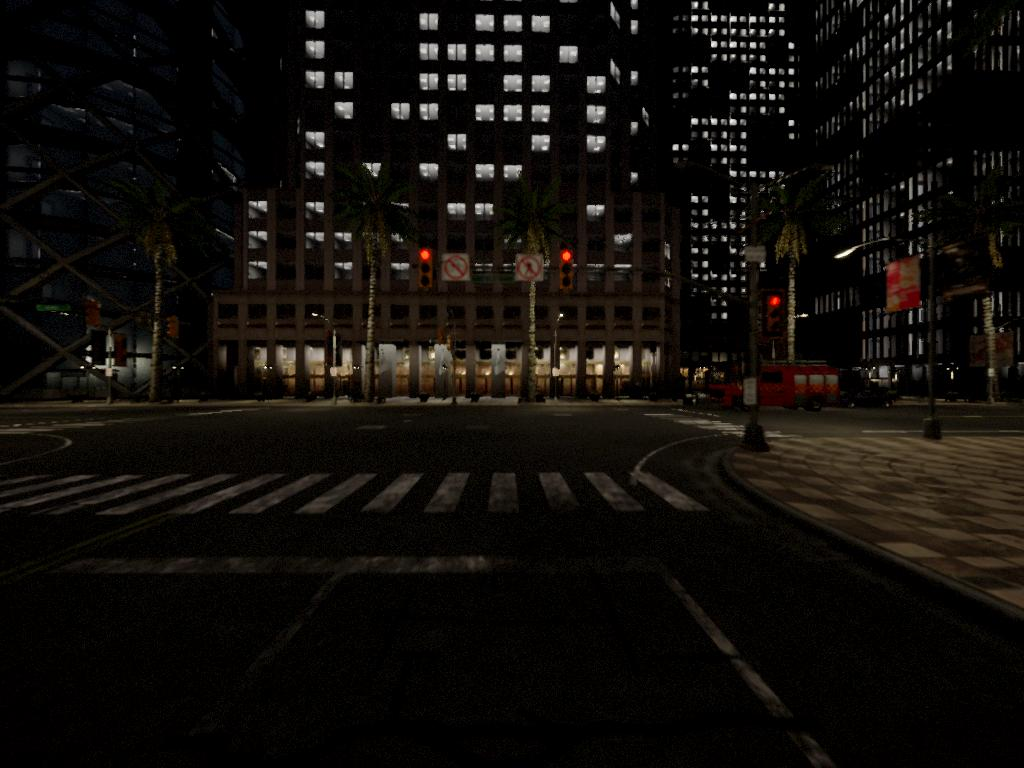traffic_light: (763, 293, 790, 338), (558, 253, 575, 295), (420, 251, 436, 289)
